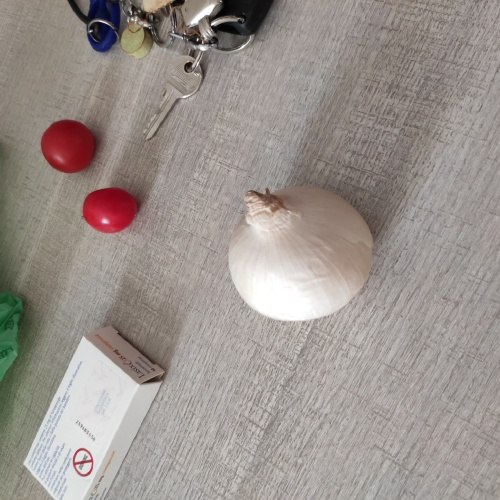cipolla: (218, 172, 380, 326)
pomodoro: (32, 114, 99, 175), (78, 187, 145, 236)
